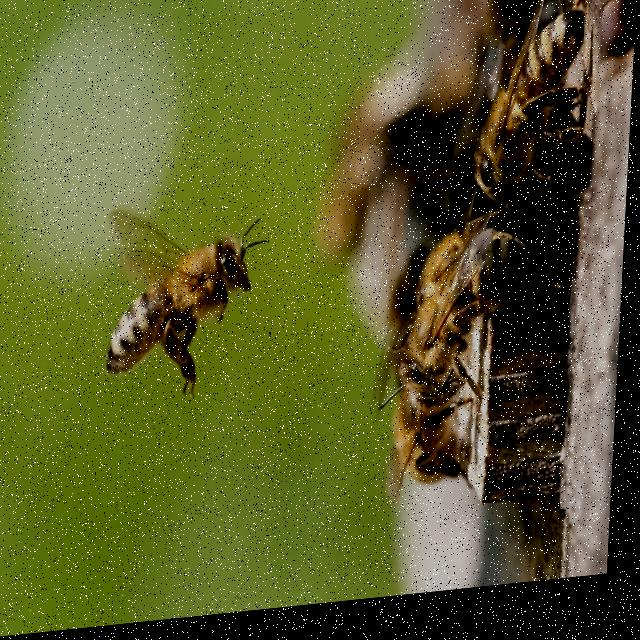Apis-mellifera-scutellata: (392, 221, 533, 508), (101, 194, 262, 410), (461, 4, 597, 228)
